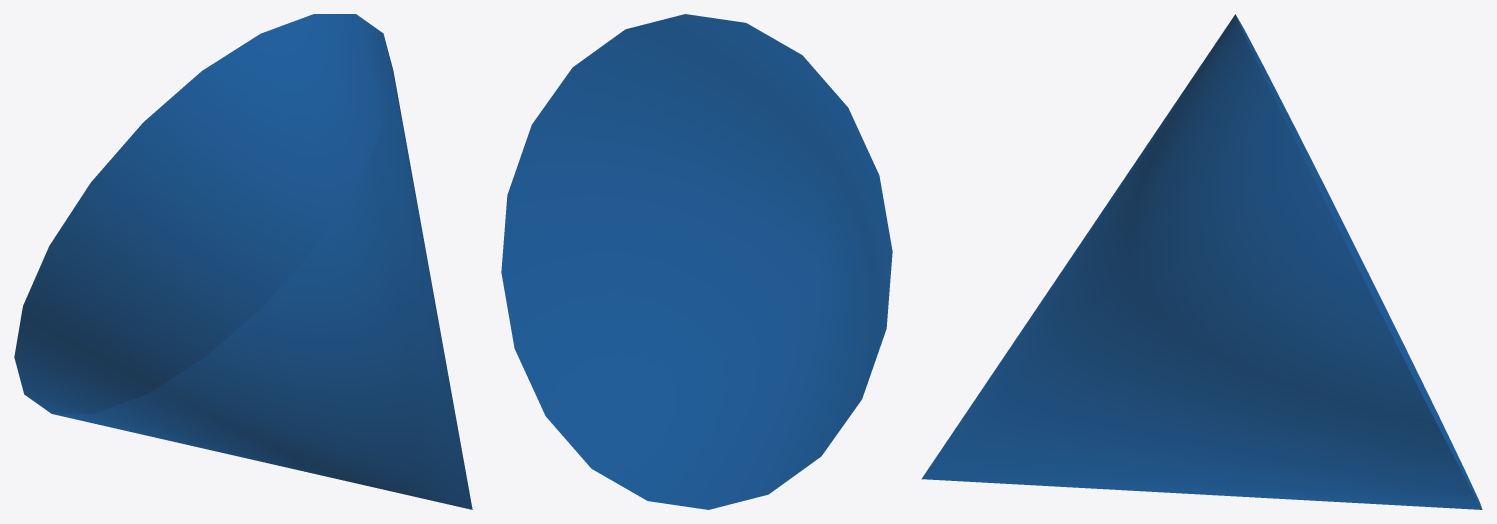
The model's file is Scan Cone - 8 9 10.fbx.
3 views of the same model, side by side, from view 1: azimuth 30°, elevation 25°; view 2: azimuth 150°, elevation 25°; view 3: azimuth 270°, elevation 25° (orthographic). The views are drawn at different scales.
Parts seen in each view (by area): view 1: pCone1; view 2: pCone1; view 3: pCone1.
Boxes of the visible parts, x1,y1,x2,y2 form: pCone1: [14, 14, 472, 509]; pCone1: [501, 14, 892, 509]; pCone1: [921, 14, 1482, 509].
Bounding box in the file's own units: 89.14 × 96.76 × 102.
